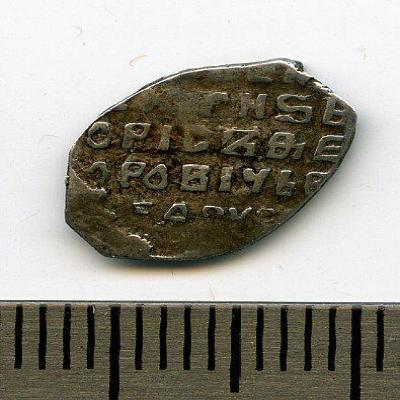numismatics: (65, 59, 356, 262)
